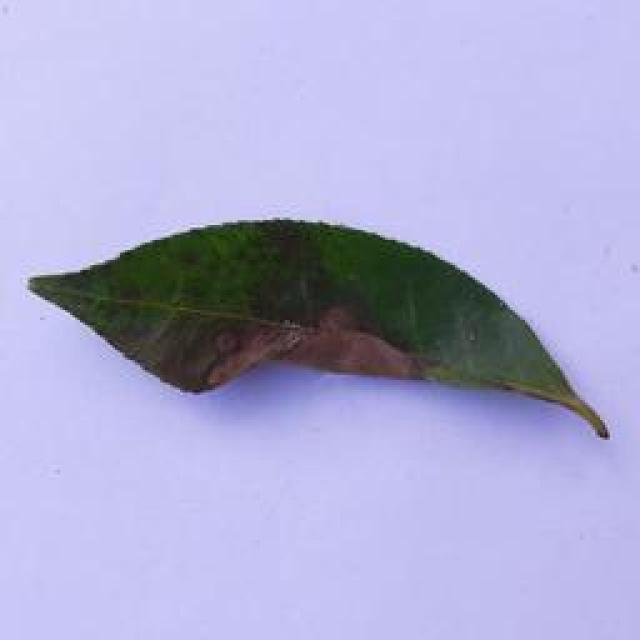Brown Blight: (20, 212, 617, 438)
